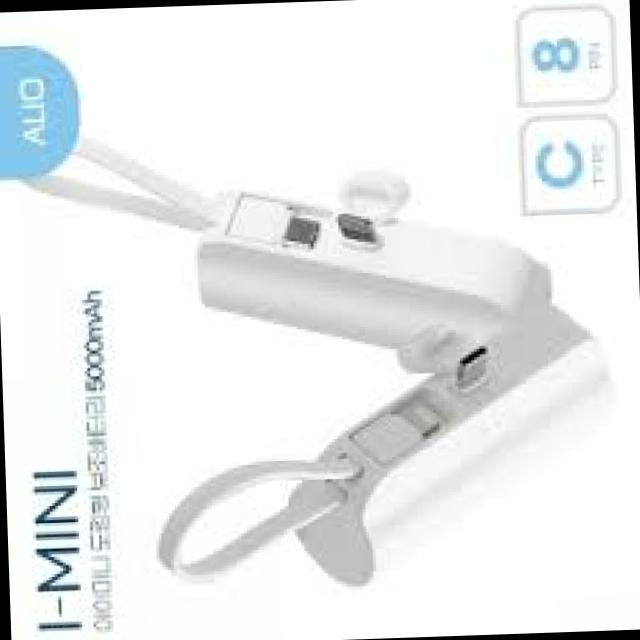portable-charger: (278, 297, 624, 586), (189, 156, 556, 374)
